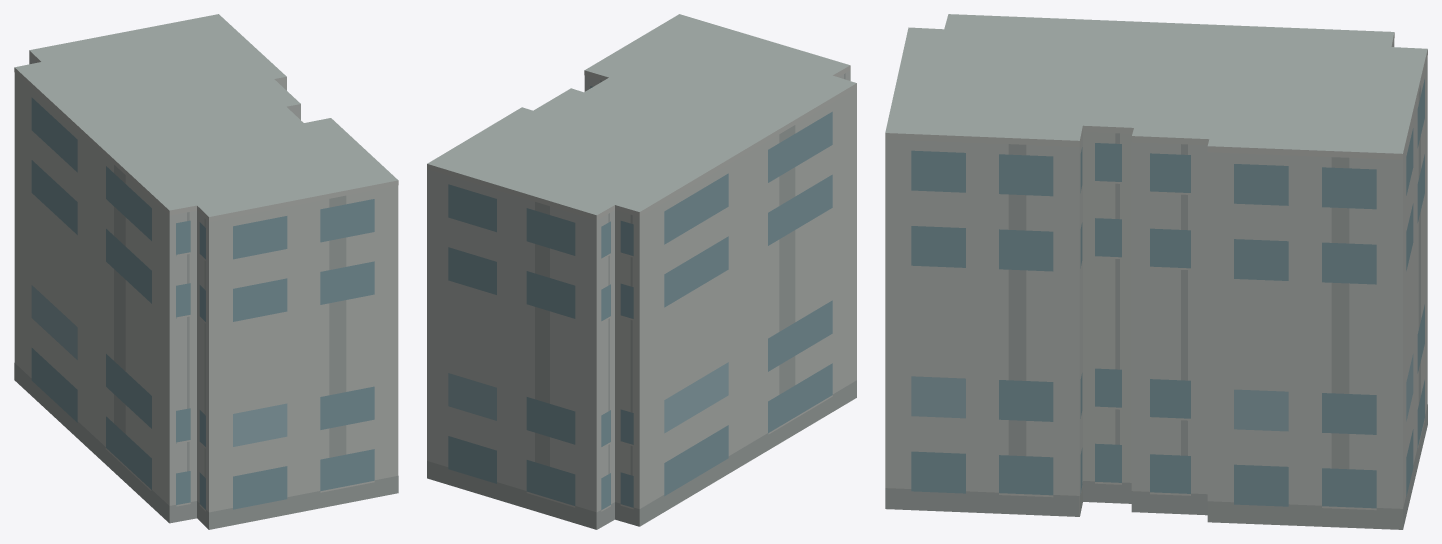
Rendered from survey-upis-32595465.glb.
3 renders of one model, left to right at view 1: azimuth 30°, elevation 25°; view 2: azimuth 150°, elevation 25°; view 3: azimuth 270°, elevation 25°, orthographic. The views are drawn at different scales.
Visible parts, largest first — view 1: survey-upis-32595465.tmp; view 2: survey-upis-32595465.tmp; view 3: survey-upis-32595465.tmp.
Boxes of the visible parts, bbox=[...] form: survey-upis-32595465.tmp: bbox=[14, 14, 398, 529]; survey-upis-32595465.tmp: bbox=[427, 14, 856, 529]; survey-upis-32595465.tmp: bbox=[885, 14, 1427, 529].
Size of the model in its own units: 11.97 by 15 by 19.62.
